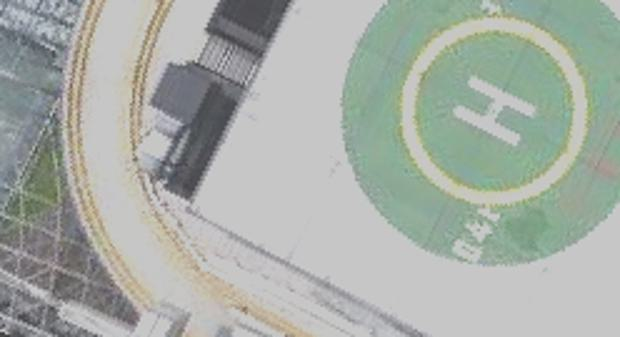Apron: (391, 11, 595, 216)
